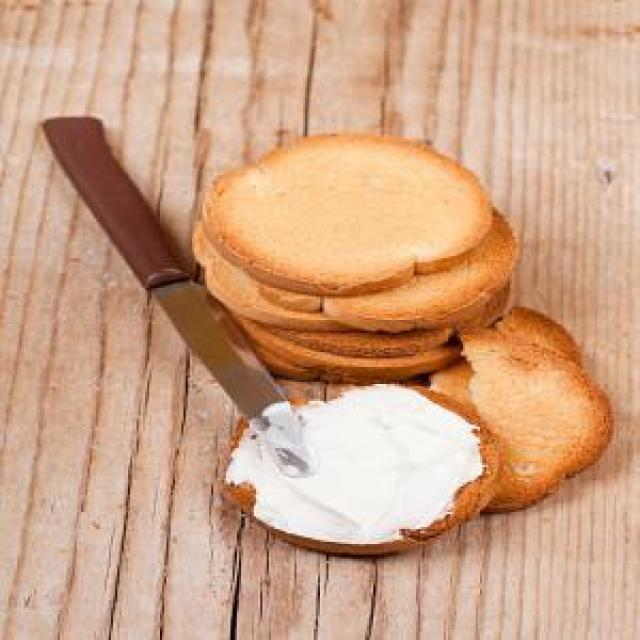knife: (34, 115, 317, 477)
